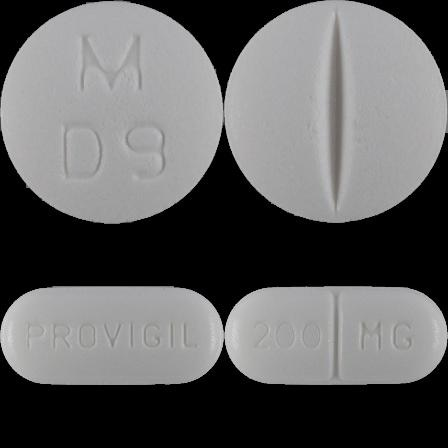54868-4895: (0, 0, 224, 224)
